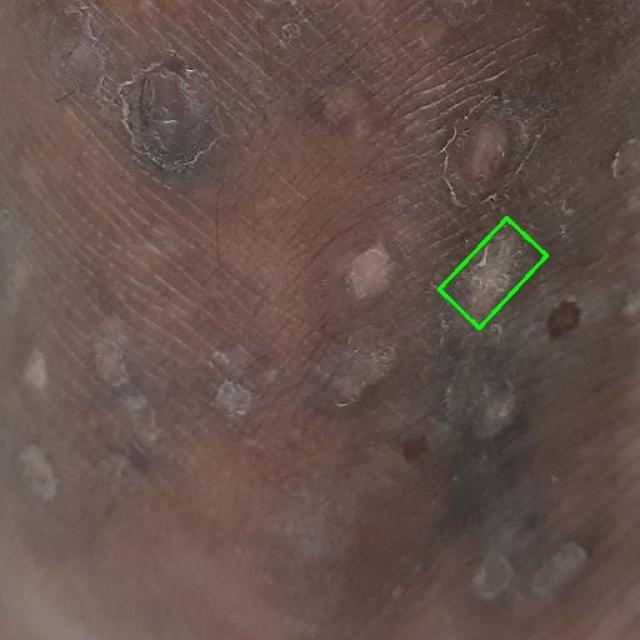Contact Dermatitis: (439, 218, 547, 328)
